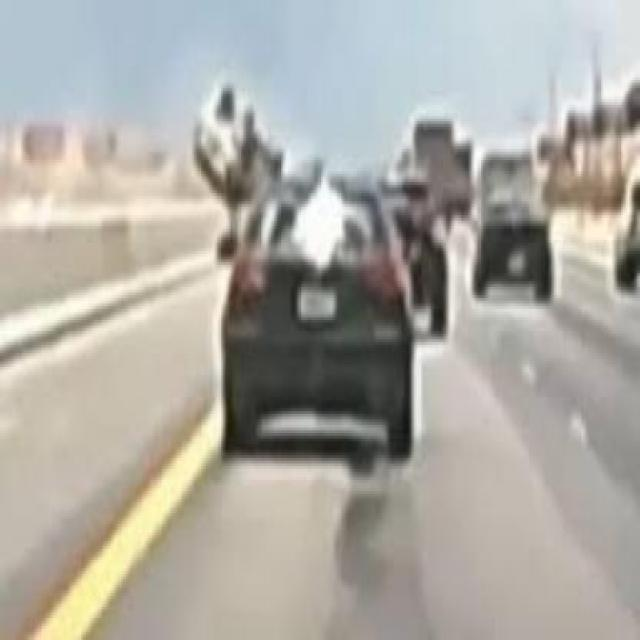accident: (190, 61, 290, 204)
